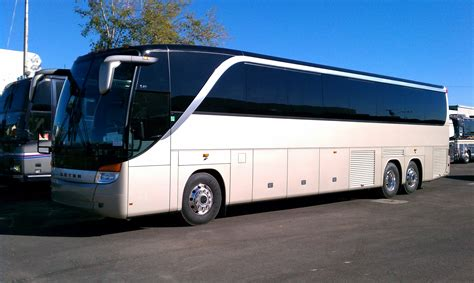bus: (52, 45, 450, 221)
